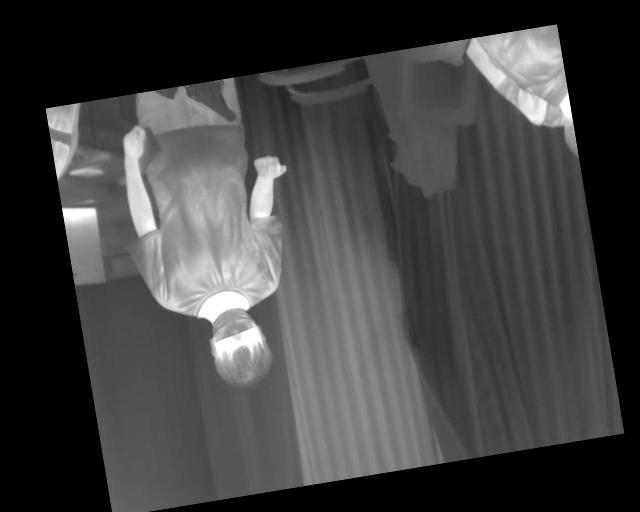face: (203, 301, 276, 391)
